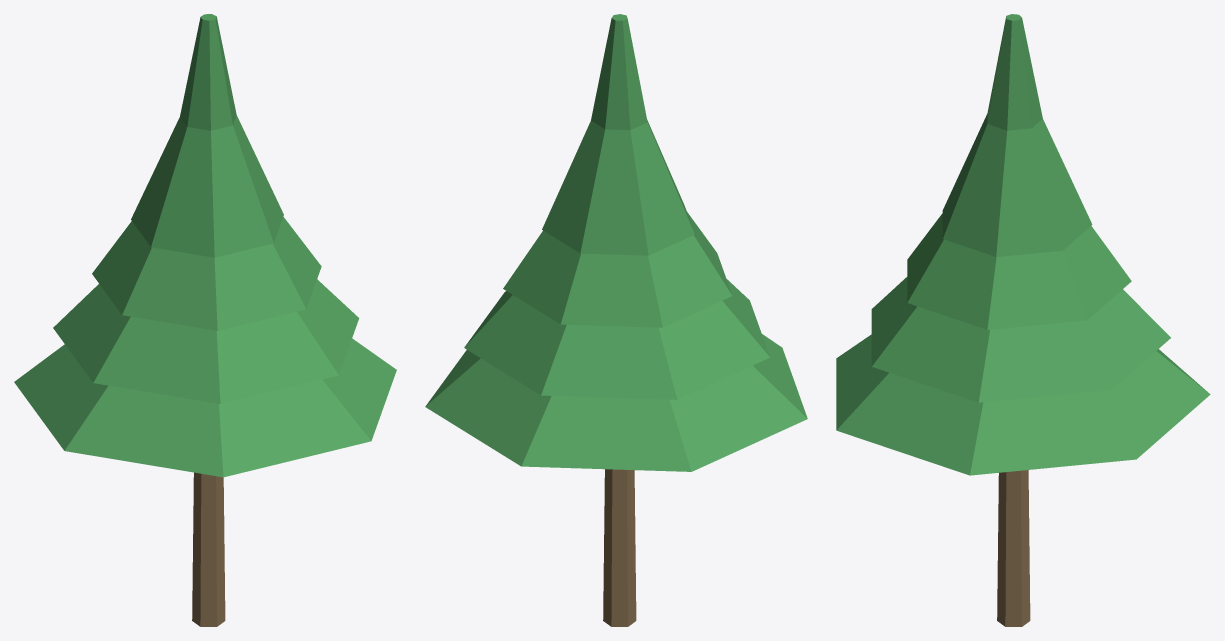
The model's file is conifer_2.glb.
3 renders of one model, left to right at view 1: azimuth 30°, elevation 25°; view 2: azimuth 150°, elevation 25°; view 3: azimuth 270°, elevation 25°, orthographic.
Parts seen in each view (by area): view 1: conifer_2_needle_0, conifer_2_needle_1, conifer_2_needle_2, conifer_2_needle_3, conifer_2_trunk, conifer_2_needle_4; view 2: conifer_2_needle_0, conifer_2_needle_1, conifer_2_needle_2, conifer_2_needle_3, conifer_2_trunk, conifer_2_needle_4; view 3: conifer_2_needle_0, conifer_2_needle_1, conifer_2_needle_2, conifer_2_needle_3, conifer_2_trunk, conifer_2_needle_4.
Part boxes in pixels (x1=…): conifer_2_needle_0: x1=14, y1=338, x2=396, y2=477; conifer_2_needle_1: x1=53, y1=279, x2=359, y2=404; conifer_2_needle_2: x1=92, y1=217, x2=321, y2=330; conifer_2_needle_3: x1=131, y1=115, x2=283, y2=257; conifer_2_trunk: x1=192, y1=472, x2=225, y2=626; conifer_2_needle_4: x1=180, y1=14, x2=236, y2=130; conifer_2_needle_0: x1=425, y1=334, x2=807, y2=471; conifer_2_needle_1: x1=464, y1=279, x2=769, y2=399; conifer_2_needle_2: x1=503, y1=212, x2=732, y2=327; conifer_2_needle_3: x1=542, y1=120, x2=694, y2=255; conifer_2_trunk: x1=603, y1=469, x2=636, y2=626; conifer_2_needle_4: x1=591, y1=14, x2=647, y2=130; conifer_2_needle_0: x1=836, y1=334, x2=1210, y2=475; conifer_2_needle_1: x1=871, y1=277, x2=1170, y2=402; conifer_2_needle_2: x1=907, y1=213, x2=1131, y2=329; conifer_2_needle_3: x1=942, y1=114, x2=1092, y2=256; conifer_2_trunk: x1=997, y1=470, x2=1030, y2=626; conifer_2_needle_4: x1=987, y1=14, x2=1042, y2=130.
Size of the model in its own units: 2.31 by 4.01 by 2.25.
